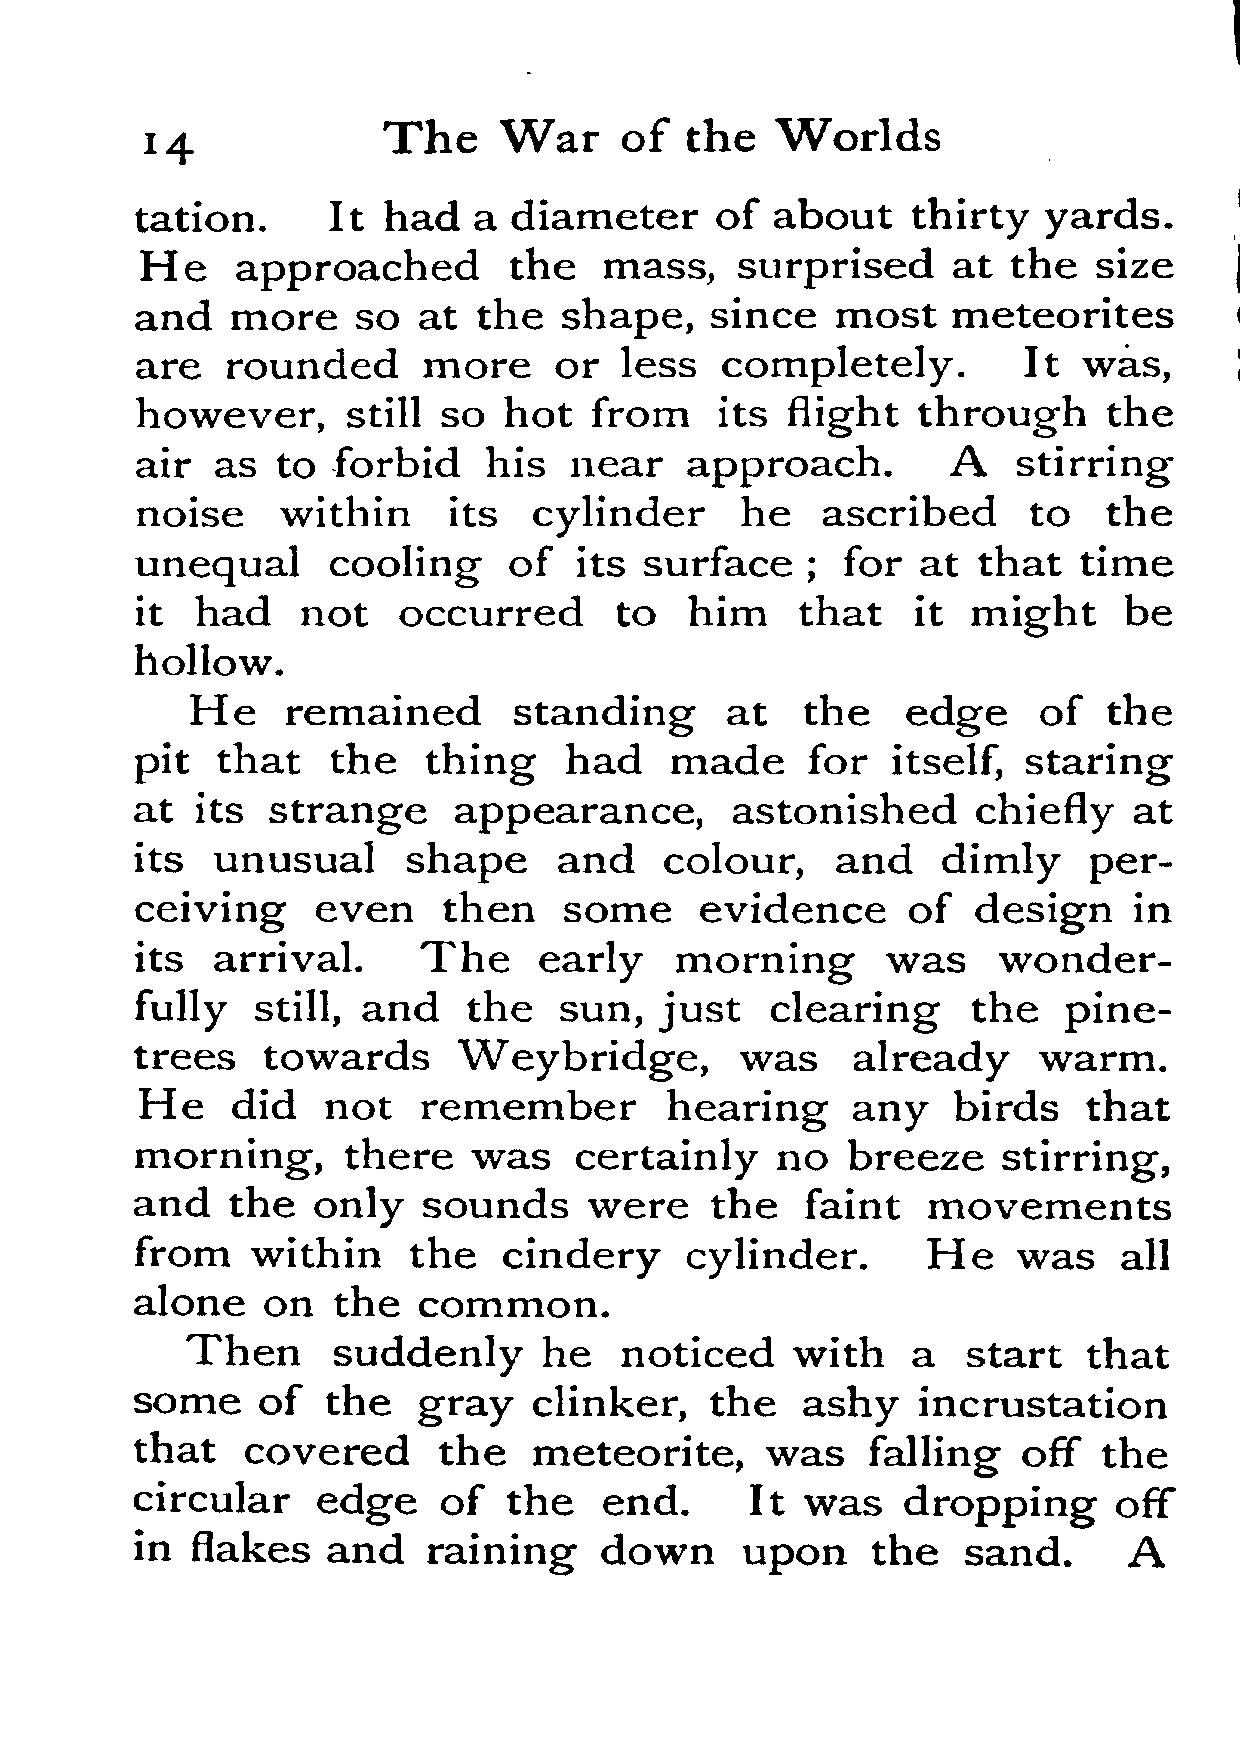content: (126, 191, 1177, 1577)
content_chapter: (372, 115, 947, 158)
content_pagenumber: (138, 117, 196, 174)
